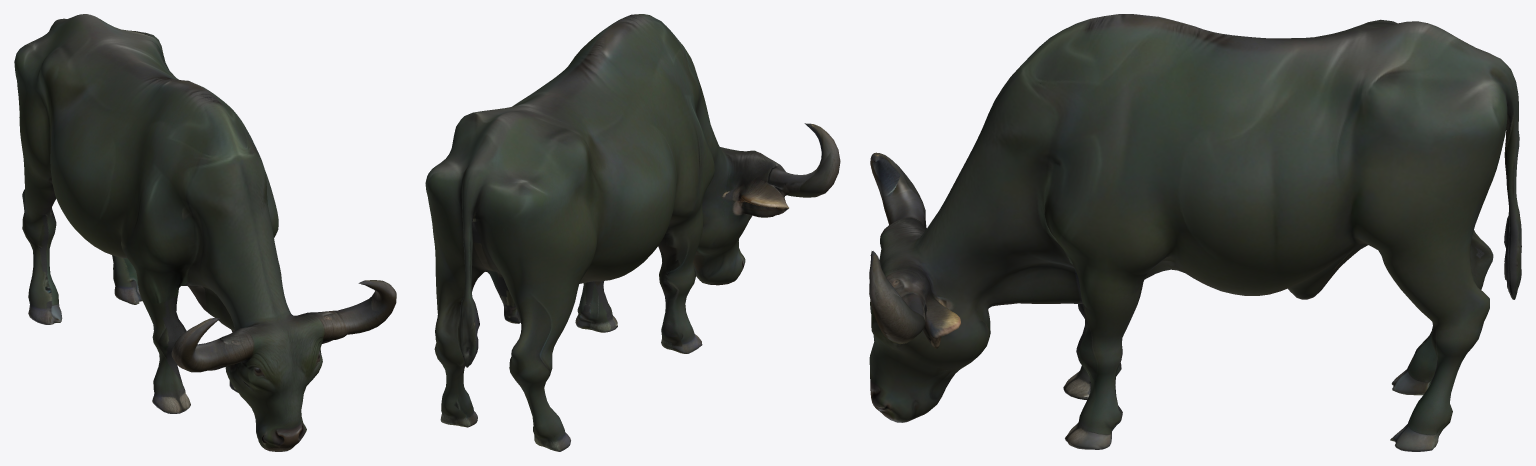
The model's file is water_buffalo_18_44fy.glb.
3 renders of one model, left to right at view 1: azimuth 30°, elevation 25°; view 2: azimuth 150°, elevation 25°; view 3: azimuth 270°, elevation 25°, orthographic. The views are drawn at different scales.
Parts seen in each view (by area): view 1: Object_4; view 2: Object_4; view 3: Object_4.
Boxes of the visible parts, x1,y1,x2,y2 form: Object_4: (14, 14, 396, 451); Object_4: (425, 14, 840, 451); Object_4: (869, 14, 1521, 451).
Size of the model in its own units: 1.03 by 1.35 by 1.99.
Materials: 1 (1 with a texture image).
